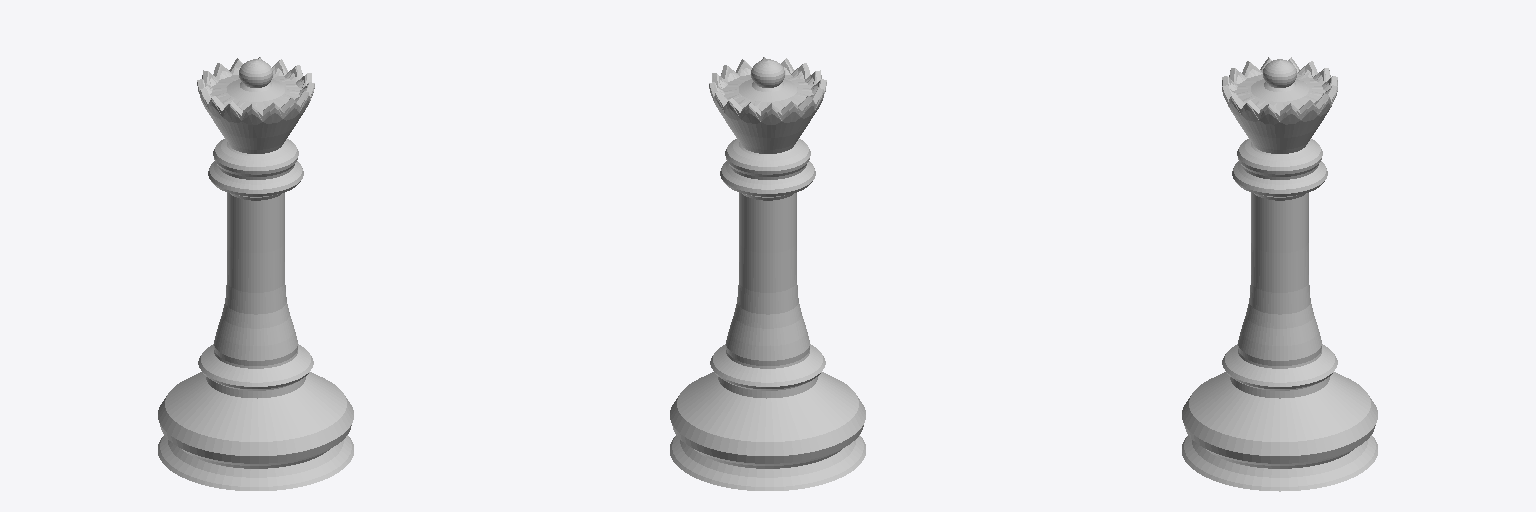
The model's file is white-queen.obj.
The picture shows the model from 3 angles: view 1: azimuth 30°, elevation 25°; view 2: azimuth 150°, elevation 25°; view 3: azimuth 270°, elevation 25°; orthographic projection.
Parts seen in each view (by area): view 1: Queen.001_Circle.006; view 2: Queen.001_Circle.006; view 3: Queen.001_Circle.006.
Boxes of the visible parts, box(x1,y1,x2,y2) form: Queen.001_Circle.006: box(158, 57, 353, 490); Queen.001_Circle.006: box(670, 57, 865, 490); Queen.001_Circle.006: box(1182, 57, 1377, 491).
Size of the model in its own units: 1.35 by 2.95 by 1.35.